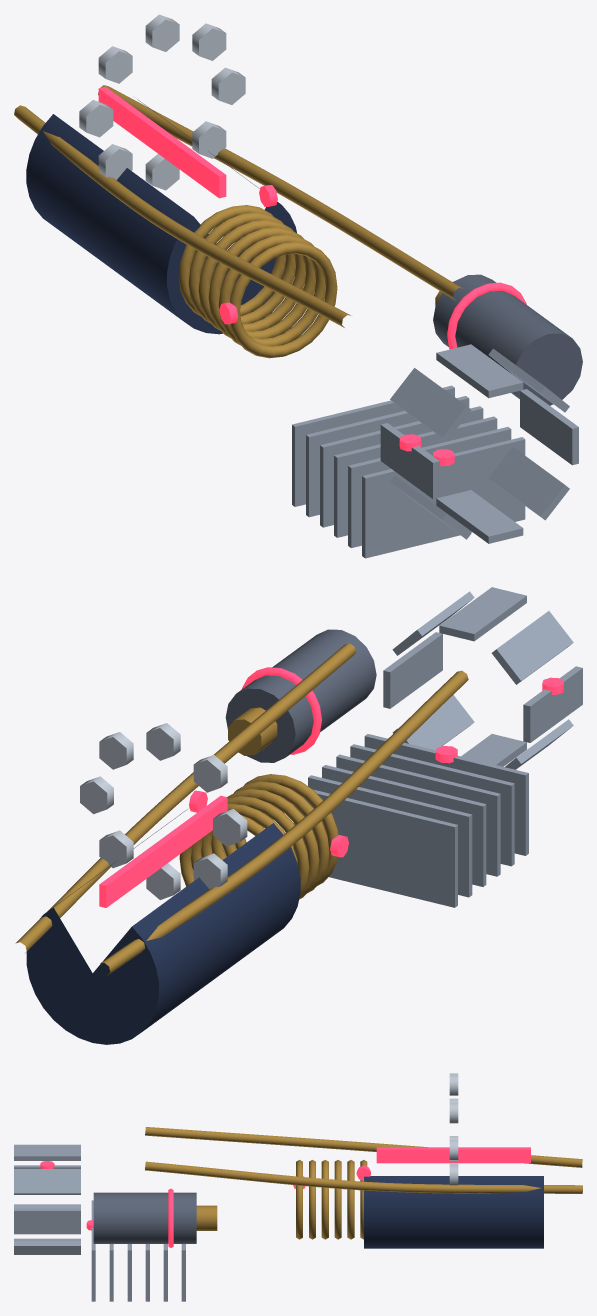
The model's file is tower_filament_ramp_s7.glb.
The picture shows the model from 3 angles, top to bottom: view 1: azimuth 30°, elevation 25°; view 2: azimuth 150°, elevation 25°; view 3: azimuth 270°, elevation 25°; orthographic projection. The views are drawn at different scales.
Parts seen in each view (by area): view 1: filament_radiator_b, filament_heat_shroud, filament_accumulator, filament_shroud_bolts, filament_heat_pipe_r, filament_heat_pipe_l, filament_shroud_glow, filament_coil_sleeve0, filament_breech_fin5, filament_breech_fin1, filament_coil_sleeve2, filament_breech_fin4 (+10 smaller); view 2: filament_radiator_b, filament_heat_shroud, filament_accumulator, filament_shroud_bolts, filament_heat_pipe_r, filament_heat_pipe_l, filament_shroud_glow, filament_breech_fin1, filament_breech_fin4, filament_breech_fin2, filament_breech_fin0, filament_breech_fin5 (+11 smaller); view 3: filament_heat_shroud, filament_accumulator, filament_heat_pipe_l, filament_heat_pipe_r, filament_shroud_glow, filament_radiator_b, filament_breech_fin4, filament_breech_fin3, filament_breech_fin2, filament_shroud_bolts, filament_breech_fin5, filament_accumulator_cap (+7 smaller).
Part boxes in pixels (x1,y1,x2,y2): filament_radiator_b: (292,385,525,558); filament_heat_shroud: (26,99,296,334); filament_accumulator: (433,274,582,405); filament_shroud_bolts: (79,14,245,190); filament_heat_pipe_r: (14,105,351,327); filament_heat_pipe_l: (98,85,463,300); filament_shroud_glow: (98,86,226,198); filament_coil_sleeve0: (230,241,337,358); filament_breech_fin5: (488,447,569,520); filament_breech_fin1: (390,368,471,441); filament_coil_sleeve2: (208,227,315,338); filament_breech_fin4: (520,389,578,465); filament_radiator_b: (293,734,528,907); filament_heat_shroud: (26,809,300,1044); filament_accumulator: (225,629,376,762); filament_shroud_bolts: (80,723,247,899); filament_heat_pipe_r: (100,670,468,975); filament_heat_pipe_l: (15,643,356,952); filament_shroud_glow: (99,795,227,907); filament_breech_fin1: (491,611,573,684); filament_breech_fin4: (383,632,442,708); filament_breech_fin2: (439,587,526,641); filament_breech_fin0: (523,666,582,742); filament_breech_fin5: (392,695,474,750); filament_heat_shroud: (364,1176,543,1248); filament_accumulator: (93,1192,196,1243); filament_heat_pipe_l: (145,1161,582,1193); filament_heat_pipe_r: (145,1127,582,1167); filament_shroud_glow: (376,1147,530,1163); filament_radiator_b: (91,1200,185,1301); filament_breech_fin4: (14,1208,80,1234); filament_breech_fin3: (14,1169,80,1194); filament_breech_fin2: (14,1145,80,1160); filament_shroud_bolts: (449,1073,458,1185); filament_breech_fin5: (14,1241,80,1254); filament_accumulator_cap: (196,1205,217,1230).
Bounding box in the file's own units: 0.647 × 0.865 × 2.21.
